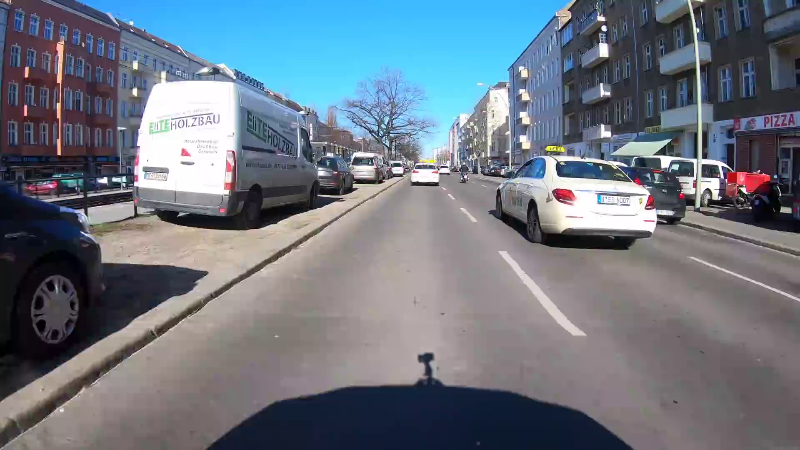Plate: (595, 192, 632, 208), (141, 170, 168, 182), (654, 205, 674, 216)
